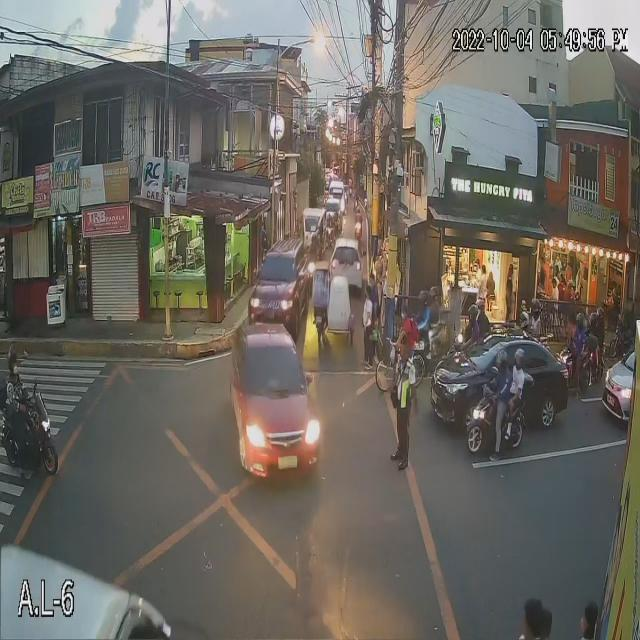helmet: (526, 292, 549, 316), (6, 342, 20, 377), (512, 309, 531, 334), (493, 349, 511, 371), (571, 309, 589, 331), (513, 346, 529, 368), (432, 279, 444, 306), (474, 297, 490, 316), (418, 290, 432, 310), (466, 303, 480, 323)
motorcycle: (0, 400, 56, 473), (464, 393, 526, 452), (563, 346, 600, 390)
rider: (5, 340, 29, 428), (507, 341, 528, 410), (494, 349, 512, 415), (463, 300, 483, 348), (568, 313, 586, 363), (529, 293, 548, 334), (474, 295, 491, 336), (430, 278, 444, 327), (515, 296, 530, 341), (421, 287, 432, 344)
